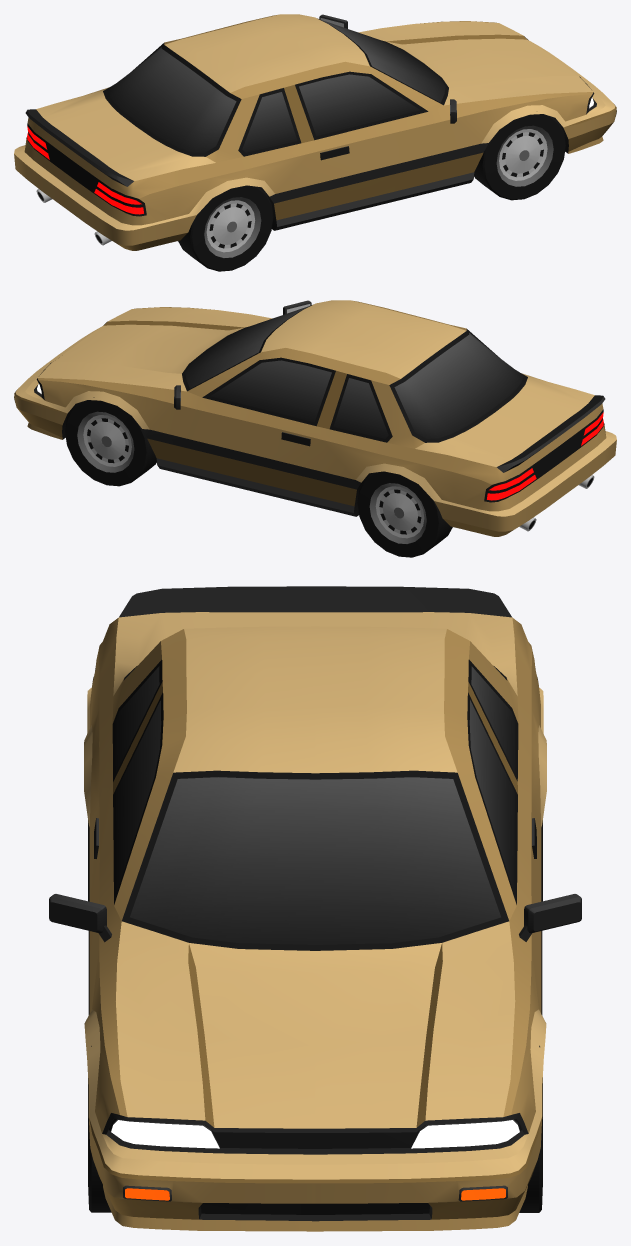
Rendered from Car_107.glb.
3 renders of one model, top to bottom at view 1: azimuth 30°, elevation 25°; view 2: azimuth 150°, elevation 25°; view 3: azimuth 270°, elevation 25°, orthographic. The views are drawn at different scales.
Parts seen in each view (by area): view 1: Car_107, wheel_1_Car_107_Wheel_1R, wheel_3_Car_107_Wheel_2R; view 2: Car_107, wheel_0_Car_107_Wheel_1L, wheel_2_Car_107_Wheel_2L; view 3: Car_107, wheel_0_Car_107_Wheel_1L, wheel_1_Car_107_Wheel_1R.
Part boxes in pixels (x1,y1,x2,y2): Car_107: (14, 14, 616, 250); wheel_1_Car_107_Wheel_1R: (474, 114, 565, 200); wheel_3_Car_107_Wheel_2R: (178, 185, 273, 271); Car_107: (14, 300, 616, 536); wheel_0_Car_107_Wheel_1L: (65, 397, 156, 486); wheel_2_Car_107_Wheel_2L: (357, 471, 452, 557); Car_107: (49, 586, 581, 1231); wheel_0_Car_107_Wheel_1L: (519, 1045, 542, 1212); wheel_1_Car_107_Wheel_1R: (88, 1046, 111, 1212).
Bounding box in the file's own units: 4.76 × 1.43 × 2.15.
Materials: 2 (2 with a texture image).
